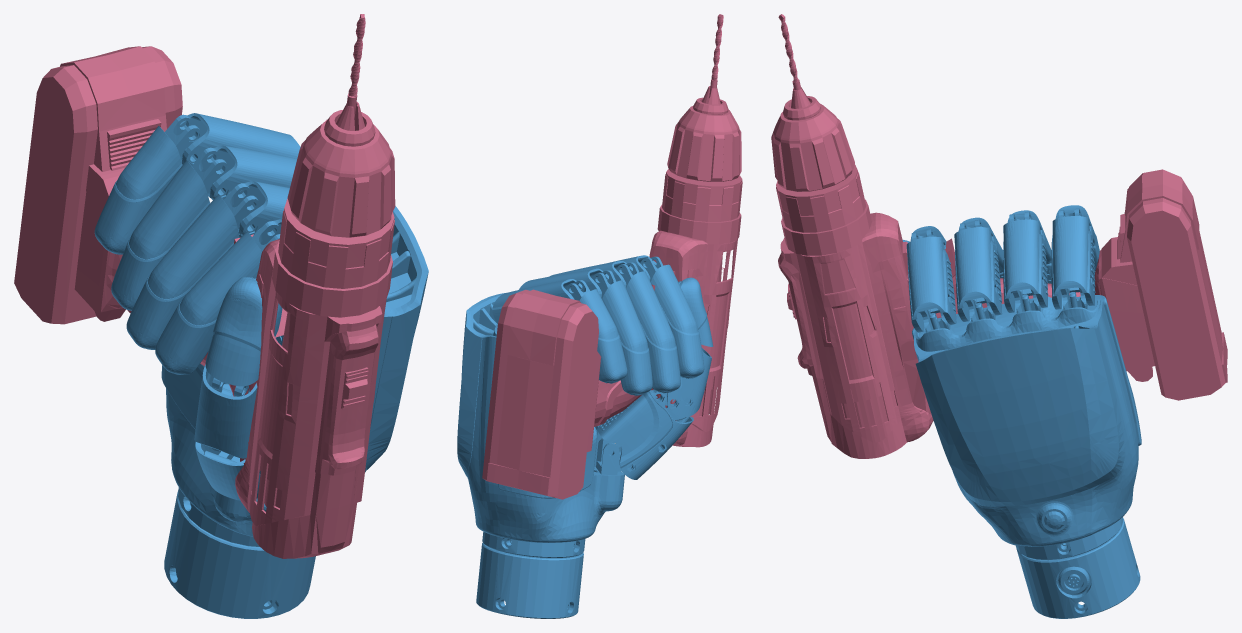
3 views of the same model, side by side, from view 1: azimuth 30°, elevation 25°; view 2: azimuth 150°, elevation 25°; view 3: azimuth 270°, elevation 25° (orthographic). The views are drawn at different scales.
Visible parts, largest first — view 1: 2; view 2: 2; view 3: 2.
Part boxes in pixels (bbox=[...]): 2: bbox=[14, 14, 428, 618]; 2: bbox=[457, 14, 742, 618]; 2: bbox=[771, 14, 1227, 618].
Size of the model in its own units: 0.1037 by 0.2774 by 0.2047.
